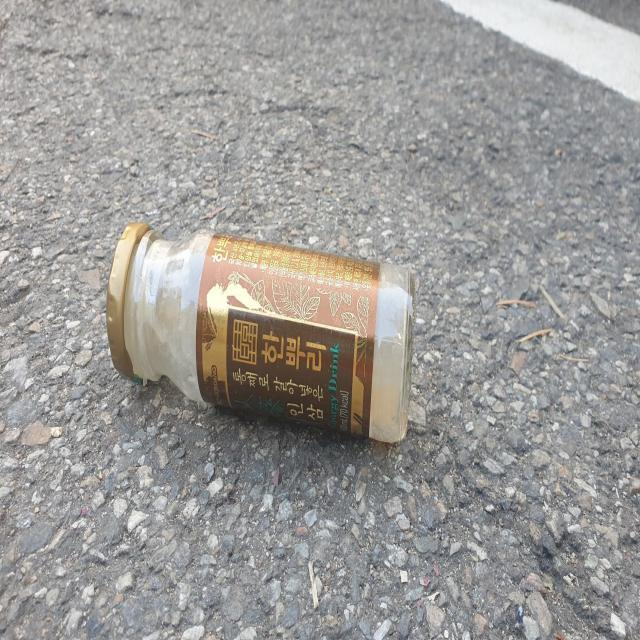glass: (106, 222, 414, 442)
